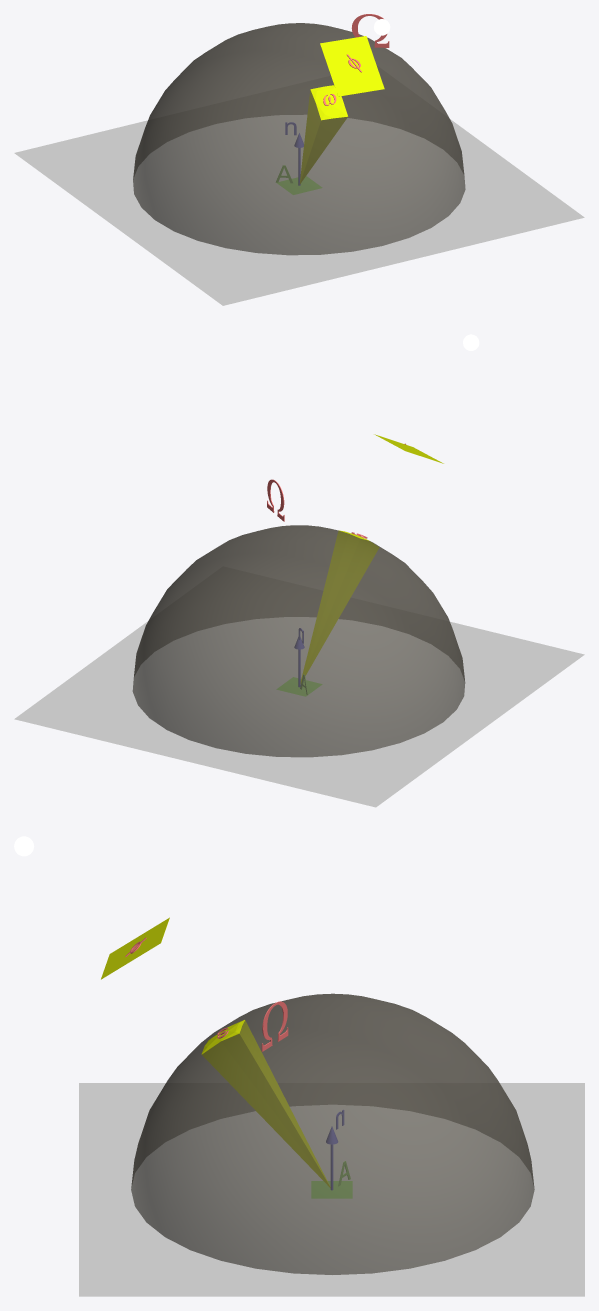
Rendered from PBR.glb.
3 views of the same model, one above another, from view 1: azimuth 30°, elevation 25°; view 2: azimuth 150°, elevation 25°; view 3: azimuth 270°, elevation 25° (orthographic). The views are drawn at different scales.
Parts seen in each view (by area): view 1: Plane001, Sphere002, Rectangle001, Cone001, Plane002; view 2: Plane001, Sphere002, Cone001; view 3: Plane001, Sphere002, Cone001, Rectangle001, Plane002.
Boxes of the visible parts, bbox=[...] form: Plane001: bbox=[14, 114, 584, 305]; Sphere002: bbox=[133, 23, 465, 255]; Rectangle001: bbox=[320, 36, 384, 96]; Cone001: bbox=[300, 85, 348, 183]; Plane002: bbox=[277, 176, 321, 194]; Plane001: bbox=[14, 617, 584, 807]; Sphere002: bbox=[132, 525, 465, 757]; Cone001: bbox=[301, 530, 379, 682]; Plane001: bbox=[79, 1083, 584, 1296]; Sphere002: bbox=[131, 993, 534, 1274]; Cone001: bbox=[201, 1020, 330, 1187]; Rectangle001: bbox=[101, 917, 169, 979]; Plane002: bbox=[311, 1181, 352, 1198].
Bounding box in the file's own units: 2.5 × 1.81 × 2.82.
